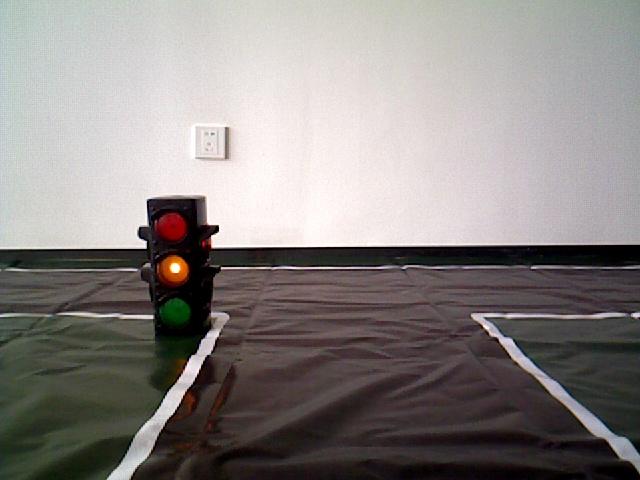yellow: (143, 197, 213, 332)
